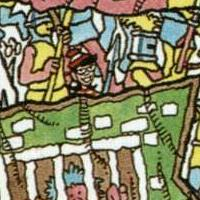wenda: (70, 48, 98, 92)
